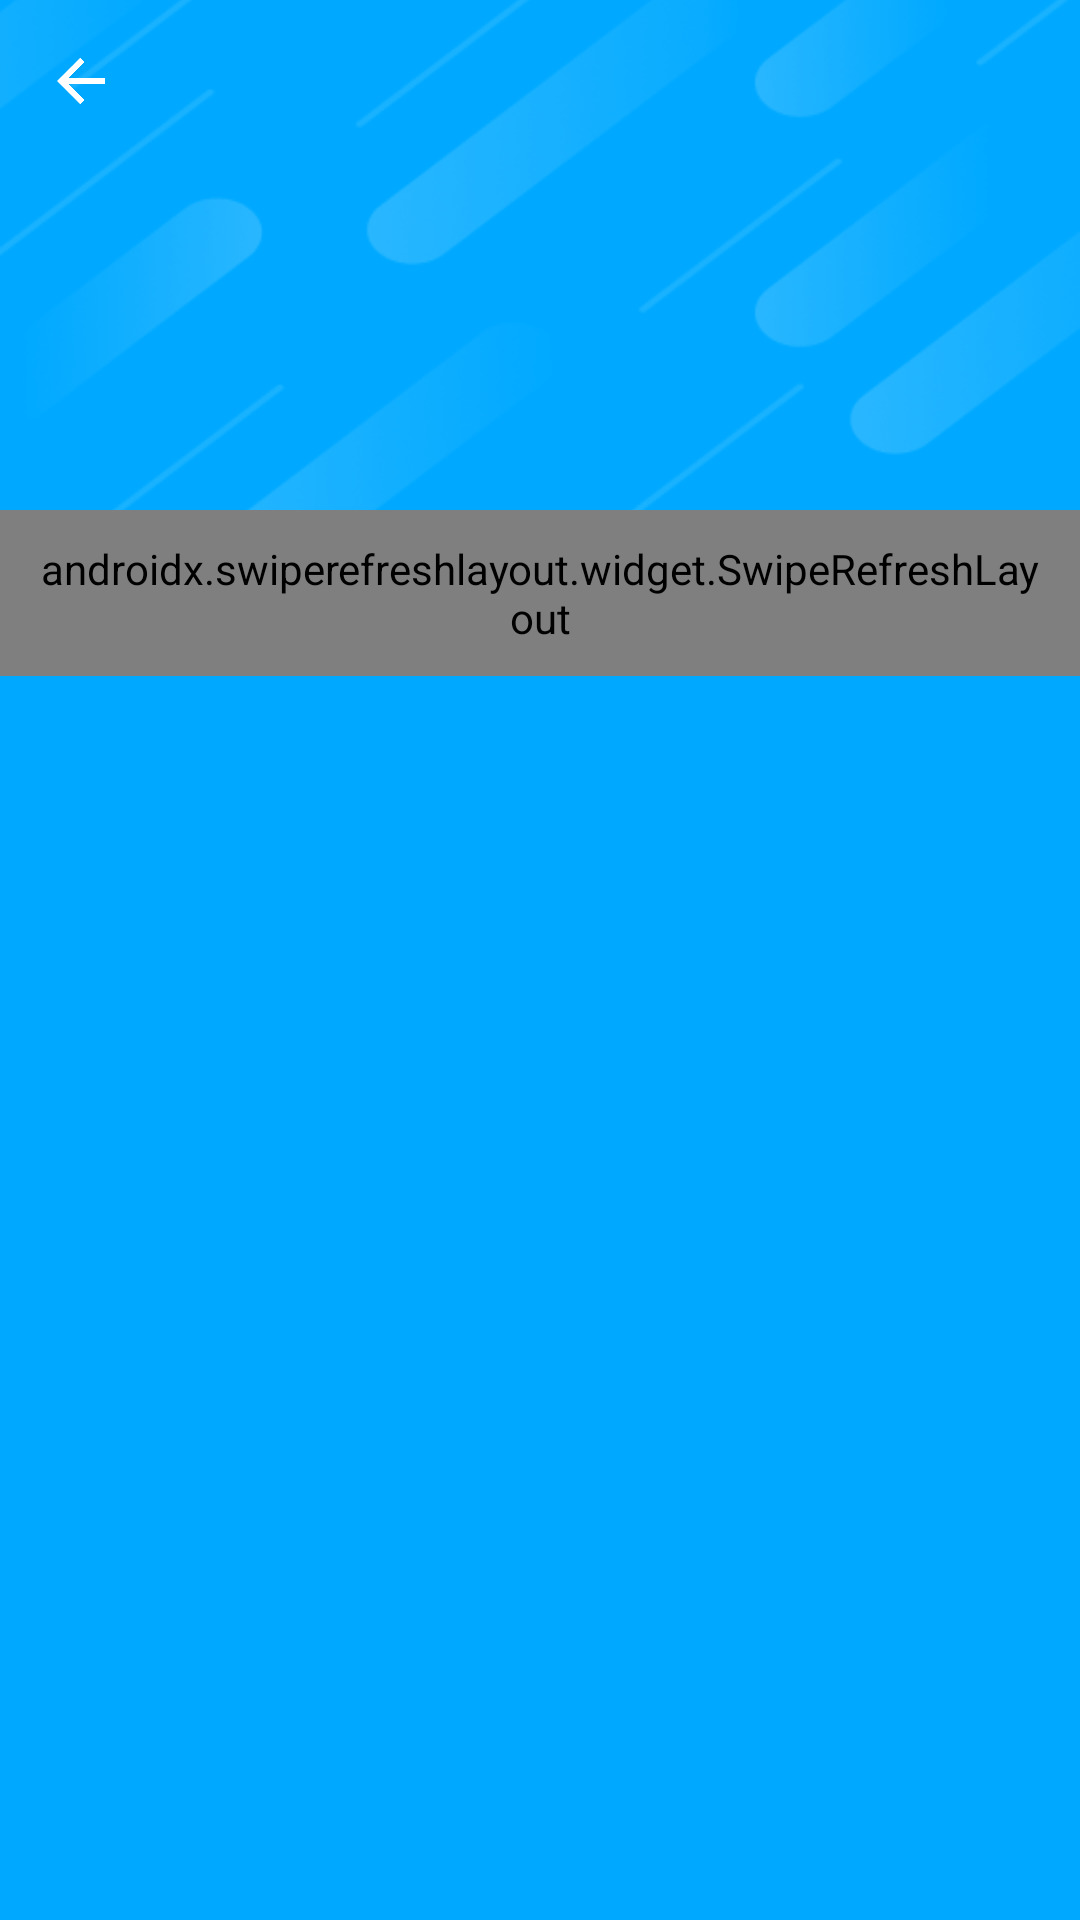

Named icons in this screenshot (1080*1920) and their centers, [x,y]:
back: [86,78]
